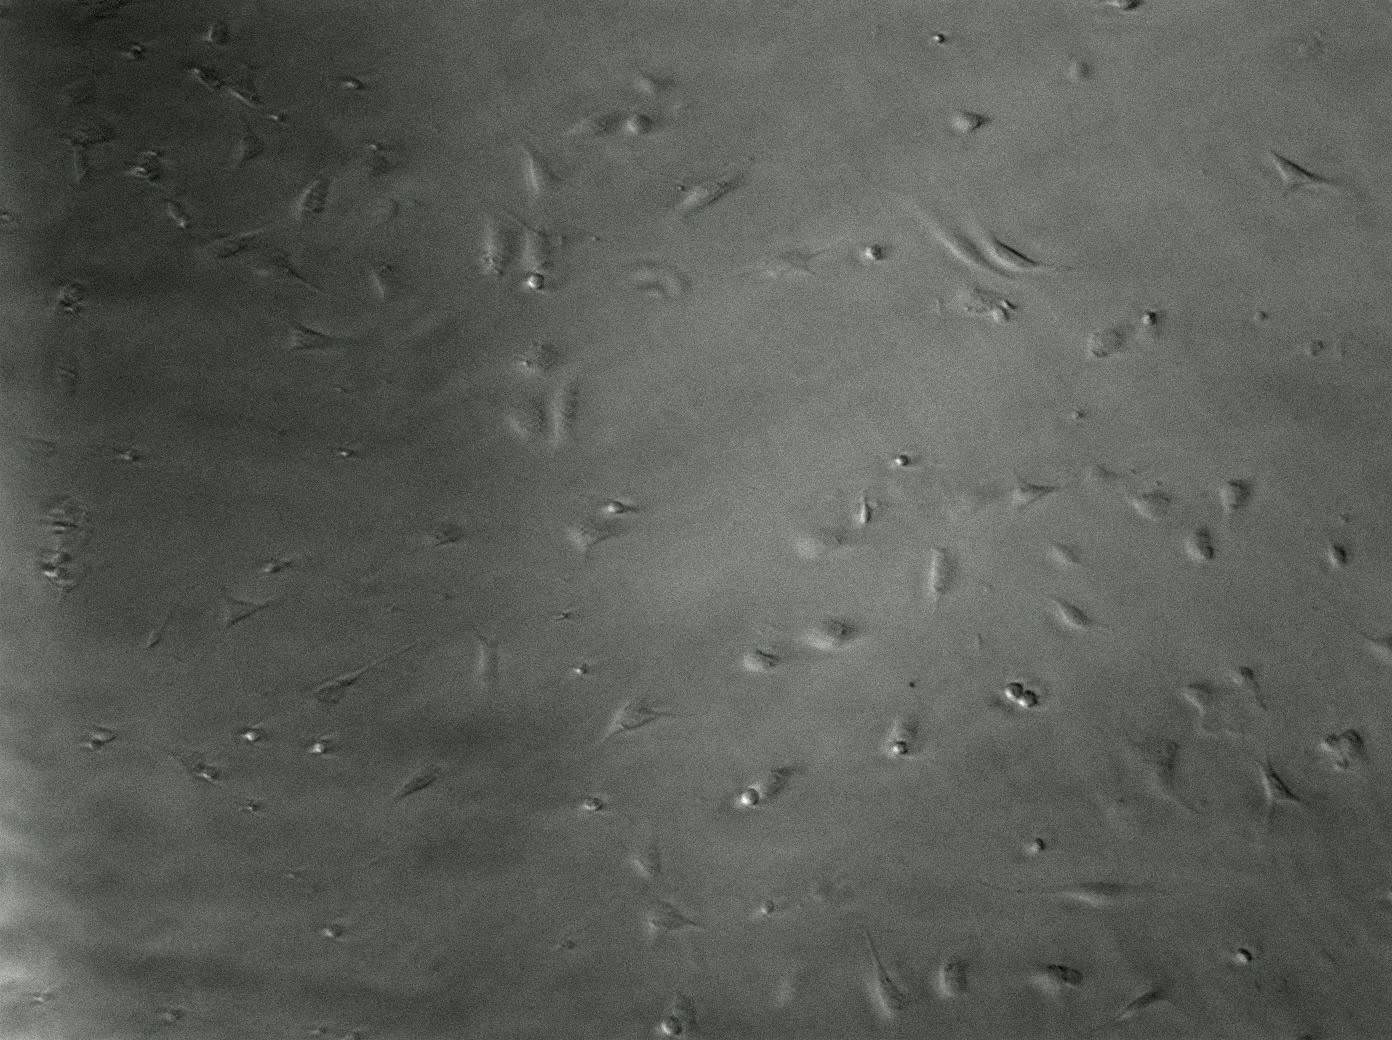cell: (889, 185, 1028, 286), (304, 637, 423, 706), (1100, 741, 1200, 820), (722, 235, 850, 284), (970, 216, 1076, 275), (1239, 749, 1313, 834), (670, 152, 757, 222), (1301, 598, 1392, 662), (499, 204, 559, 298), (595, 695, 695, 748), (1085, 981, 1178, 1035), (1264, 144, 1348, 200), (976, 881, 1129, 911), (862, 925, 911, 1017), (209, 582, 284, 641), (130, 734, 213, 784), (245, 255, 335, 297), (545, 374, 591, 457), (382, 755, 451, 808), (276, 314, 358, 358), (933, 284, 1019, 322), (10, 430, 98, 468), (200, 222, 279, 262), (519, 139, 566, 202), (736, 763, 799, 809), (797, 616, 872, 654), (514, 330, 565, 386), (1004, 465, 1061, 516), (46, 347, 109, 392), (49, 267, 102, 320), (225, 66, 276, 119), (564, 103, 633, 142), (1317, 728, 1375, 772), (791, 523, 853, 565), (140, 592, 182, 652), (563, 521, 616, 568), (477, 209, 512, 280), (644, 895, 705, 935), (1047, 589, 1101, 634), (119, 142, 168, 190), (925, 542, 962, 607), (59, 132, 97, 190), (233, 110, 267, 173), (364, 258, 409, 304), (49, 563, 90, 613), (1118, 487, 1172, 524), (1026, 962, 1084, 997), (626, 839, 666, 888), (469, 628, 505, 683), (507, 405, 547, 453), (176, 56, 225, 95), (628, 66, 681, 101), (68, 111, 119, 146), (294, 173, 331, 221), (885, 714, 921, 764), (772, 968, 809, 1015), (56, 70, 98, 109), (356, 145, 399, 182), (936, 956, 971, 1000), (1220, 477, 1254, 522), (1175, 682, 1213, 720), (1181, 522, 1217, 563), (1087, 324, 1129, 359), (742, 645, 786, 676), (946, 108, 994, 137), (424, 519, 468, 548), (201, 16, 234, 52), (75, 721, 129, 743), (163, 198, 196, 233), (1050, 542, 1086, 572), (623, 110, 660, 137), (1096, 0, 1159, 15), (665, 992, 695, 1024), (588, 497, 634, 517), (1328, 544, 1353, 572), (660, 1018, 683, 1038), (1014, 692, 1037, 709), (1005, 681, 1025, 700)
debris: (297, 734, 342, 757), (232, 723, 270, 746), (314, 922, 349, 941), (111, 447, 142, 468), (154, 1007, 190, 1025), (255, 558, 291, 576), (25, 989, 60, 1006), (334, 75, 367, 94), (523, 271, 548, 295), (989, 306, 1016, 326), (858, 492, 872, 529), (578, 795, 604, 815), (1232, 946, 1255, 968), (1060, 971, 1084, 992), (548, 937, 578, 954), (863, 243, 885, 264), (1023, 836, 1048, 854), (192, 767, 221, 783), (928, 27, 952, 46), (333, 446, 362, 461), (1141, 308, 1160, 329), (740, 788, 759, 807), (303, 1026, 334, 1038), (1198, 543, 1217, 562), (758, 897, 776, 918), (238, 800, 263, 814), (999, 297, 1019, 311), (334, 1030, 364, 1040), (899, 745, 916, 761), (367, 137, 385, 152), (892, 453, 910, 468), (264, 114, 288, 125), (570, 664, 590, 676), (87, 740, 103, 751), (550, 660, 565, 671)
